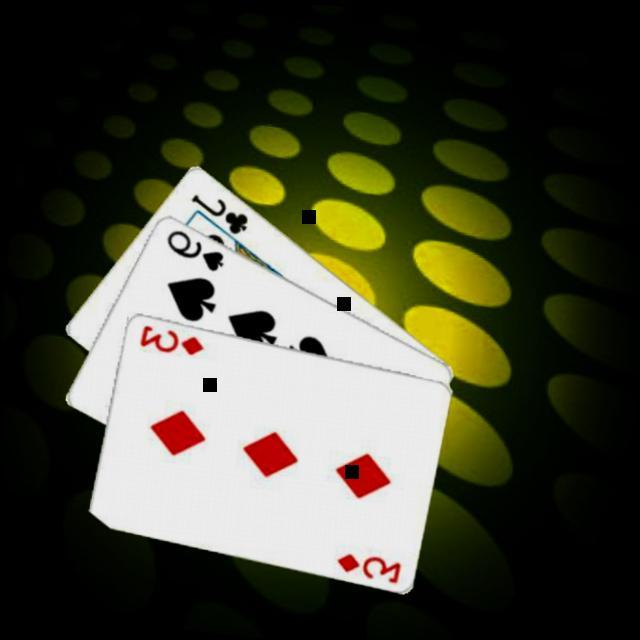3D: (329, 548, 402, 588), (133, 322, 206, 360)
9S: (158, 225, 228, 276)
JC: (183, 190, 252, 240)
